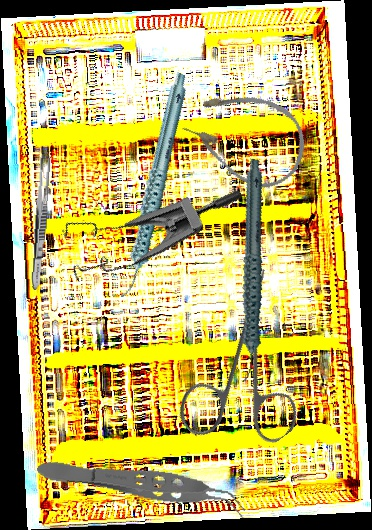Cannula: (172, 72, 319, 200)
Dressing Forceps: (29, 153, 52, 291)
Handpiece: (74, 71, 232, 301), (192, 157, 308, 385)
Iris Scissors: (135, 264, 352, 481)
Speculum: (45, 127, 245, 311)
Tissue Forceps: (34, 451, 250, 520)
